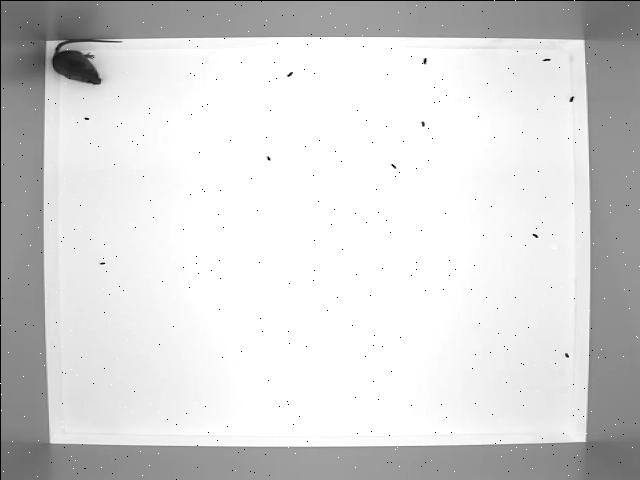Tikus: (50, 36, 124, 86)
